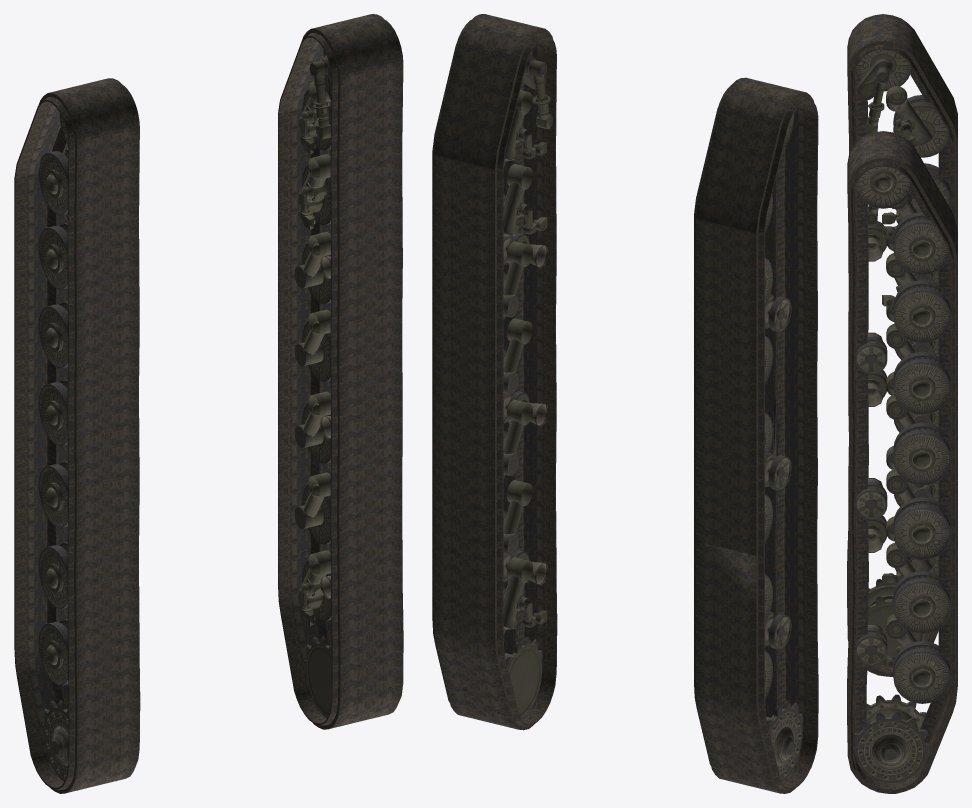
File: Chassis.glb
3 views of the same model, side by side, from view 1: azimuth 30°, elevation 25°; view 2: azimuth 150°, elevation 25°; view 3: azimuth 270°, elevation 25° (orthographic). The views are drawn at different scales.
Visible parts, largest first — view 1: set_5_group_0, set_4_group_0, set_1_group_0, set_3_group_0, set_0_group_0; view 2: set_5_group_0, set_4_group_0, set_1_group_0, set_3_group_0, set_0_group_0; view 3: set_1_group_0, set_4_group_0, set_3_group_0, set_5_group_0, set_2_group_0, set_0_group_0.
Boxes of the visible parts, x1=… form: set_5_group_0: x1=14, y1=78, x2=140, y2=793; set_4_group_0: x1=278, y1=14, x2=403, y2=729; set_1_group_0: x1=294, y1=49, x2=389, y2=726; set_3_group_0: x1=38, y1=113, x2=127, y2=790; set_0_group_0: x1=294, y1=243, x2=324, y2=448; set_5_group_0: x1=694, y1=77, x2=818, y2=793; set_4_group_0: x1=432, y1=14, x2=557, y2=730; set_1_group_0: x1=460, y1=49, x2=552, y2=725; set_3_group_0: x1=720, y1=112, x2=802, y2=789; set_0_group_0: x1=503, y1=261, x2=523, y2=475; set_1_group_0: x1=854, y1=166, x2=950, y2=783; set_4_group_0: x1=847, y1=131, x2=957, y2=793; set_3_group_0: x1=855, y1=49, x2=950, y2=665; set_5_group_0: x1=847, y1=14, x2=957, y2=676; set_2_group_0: x1=908, y1=273, x2=932, y2=424; set_0_group_0: x1=897, y1=340, x2=915, y2=503.
Bounding box in the file's own units: 3.37 × 6.73 × 1.06.
6 materials, 6 textured.
